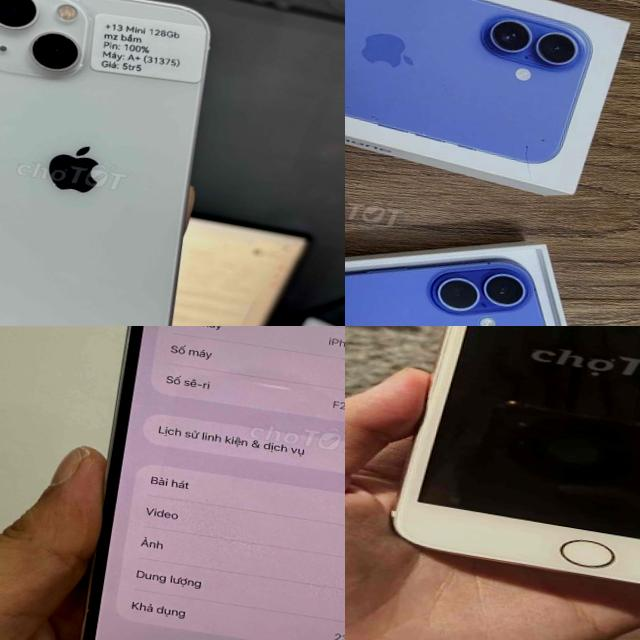gen_12_13: (51, 326, 345, 640), (0, 0, 228, 326)
gen_7_8: (387, 326, 640, 615)
